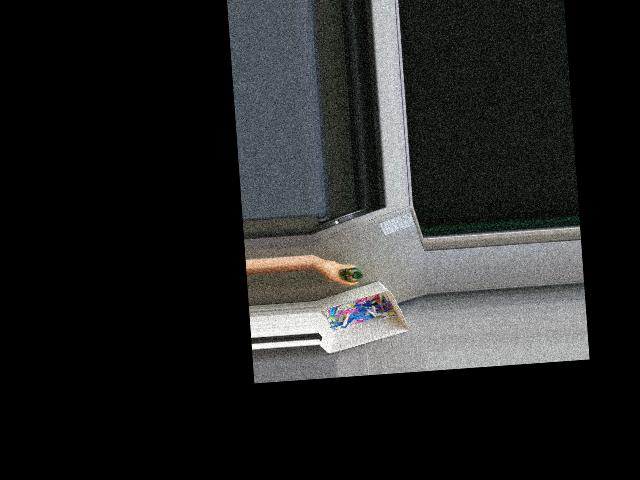beer: (341, 266, 363, 282)
